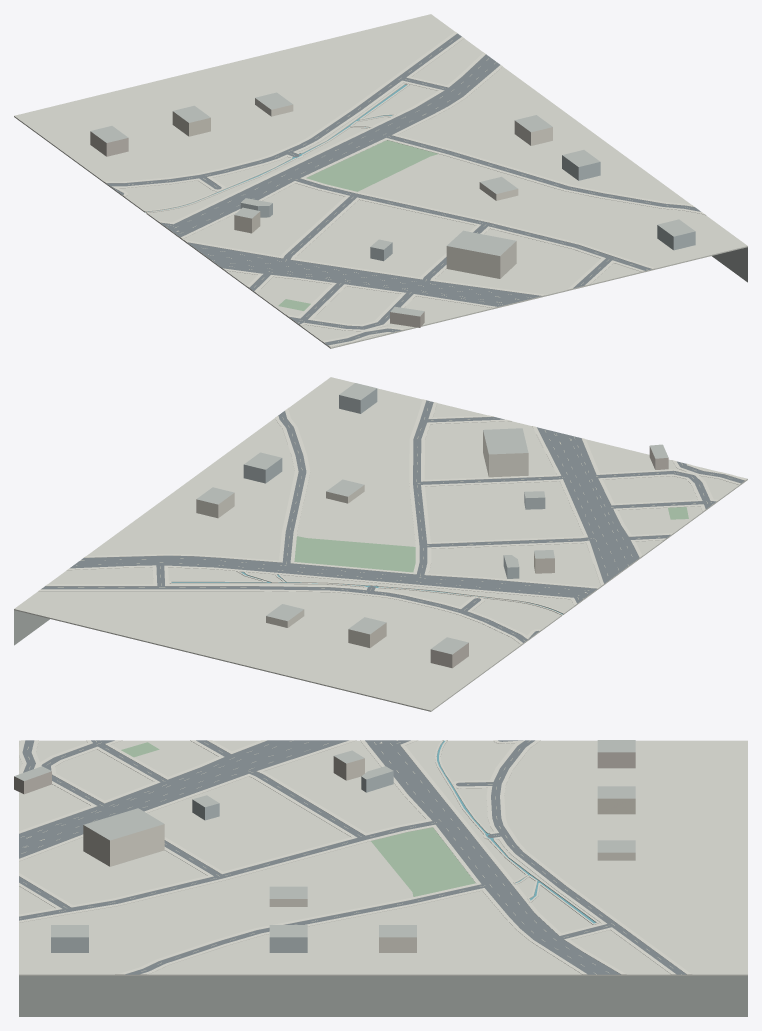
3 views of the same model, one above another, from view 1: azimuth 30°, elevation 25°; view 2: azimuth 150°, elevation 25°; view 3: azimuth 270°, elevation 25° (orthographic). The views are drawn at different scales.
Parts seen in each view (by area): view 1: city; view 2: city; view 3: city.
Part boxes in pixels (x1,y1,x2,y2): city: (14, 14, 747, 348); city: (14, 377, 747, 711); city: (14, 740, 747, 1016).
Size of the model in its own units: 380 by 52 by 503.
